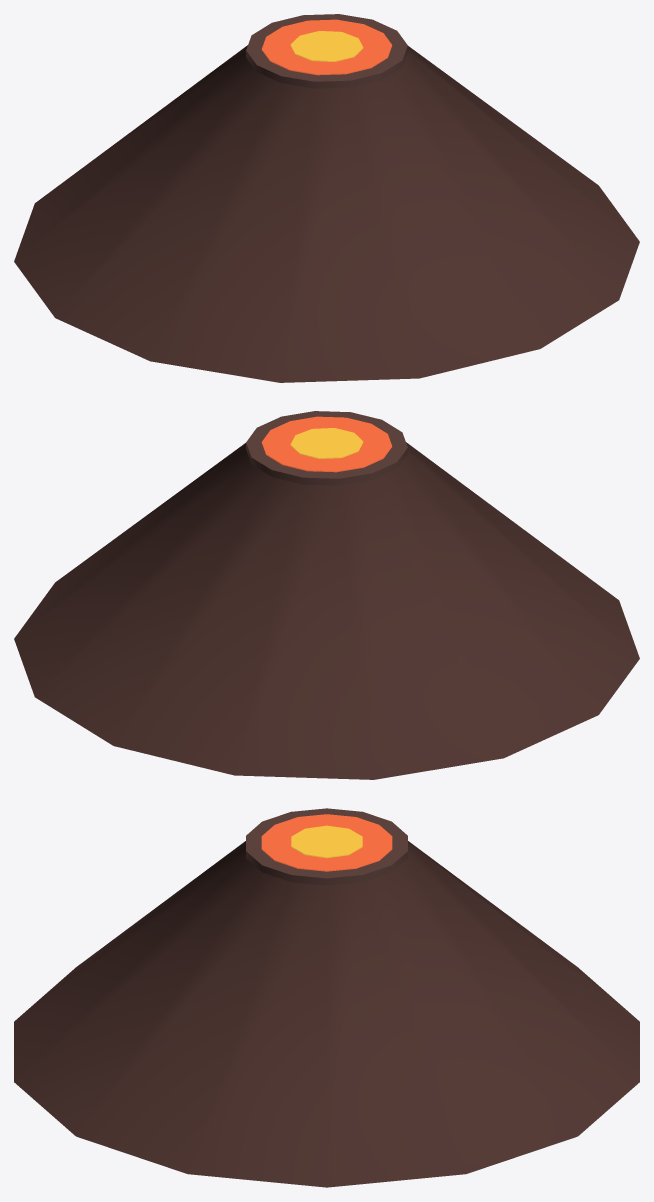
The model's file is props_island5.glb.
3 renders of one model, top to bottom at view 1: azimuth 30°, elevation 25°; view 2: azimuth 150°, elevation 25°; view 3: azimuth 270°, elevation 25°, orthographic. The views are drawn at different scales.
Visible parts, largest first — view 1: volcano, volcano_glow; view 2: volcano, volcano_glow; view 3: volcano, volcano_glow.
Part boxes in pixels (x1=…): volcano: x1=14, y1=14, x2=639, y2=382; volcano_glow: x1=261, y1=19, x2=392, y2=75; volcano: x1=14, y1=411, x2=639, y2=779; volcano_glow: x1=261, y1=416, x2=392, y2=472; volcano: x1=14, y1=808, x2=639, y2=1187; volcano_glow: x1=261, y1=814, x2=392, y2=871.
Size of the model in its own units: 12 by 4.34 by 11.7.
